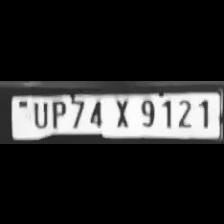1: (194, 96, 212, 128), (158, 96, 174, 128)
2: (172, 96, 194, 128)
4: (85, 97, 107, 127)
7: (68, 97, 86, 127)
9: (135, 96, 157, 127)
P: (48, 98, 68, 128)
U: (28, 98, 50, 128)
X: (109, 96, 133, 128)
